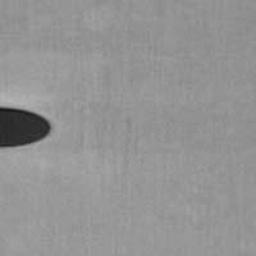Punching: (0, 107, 51, 148)
